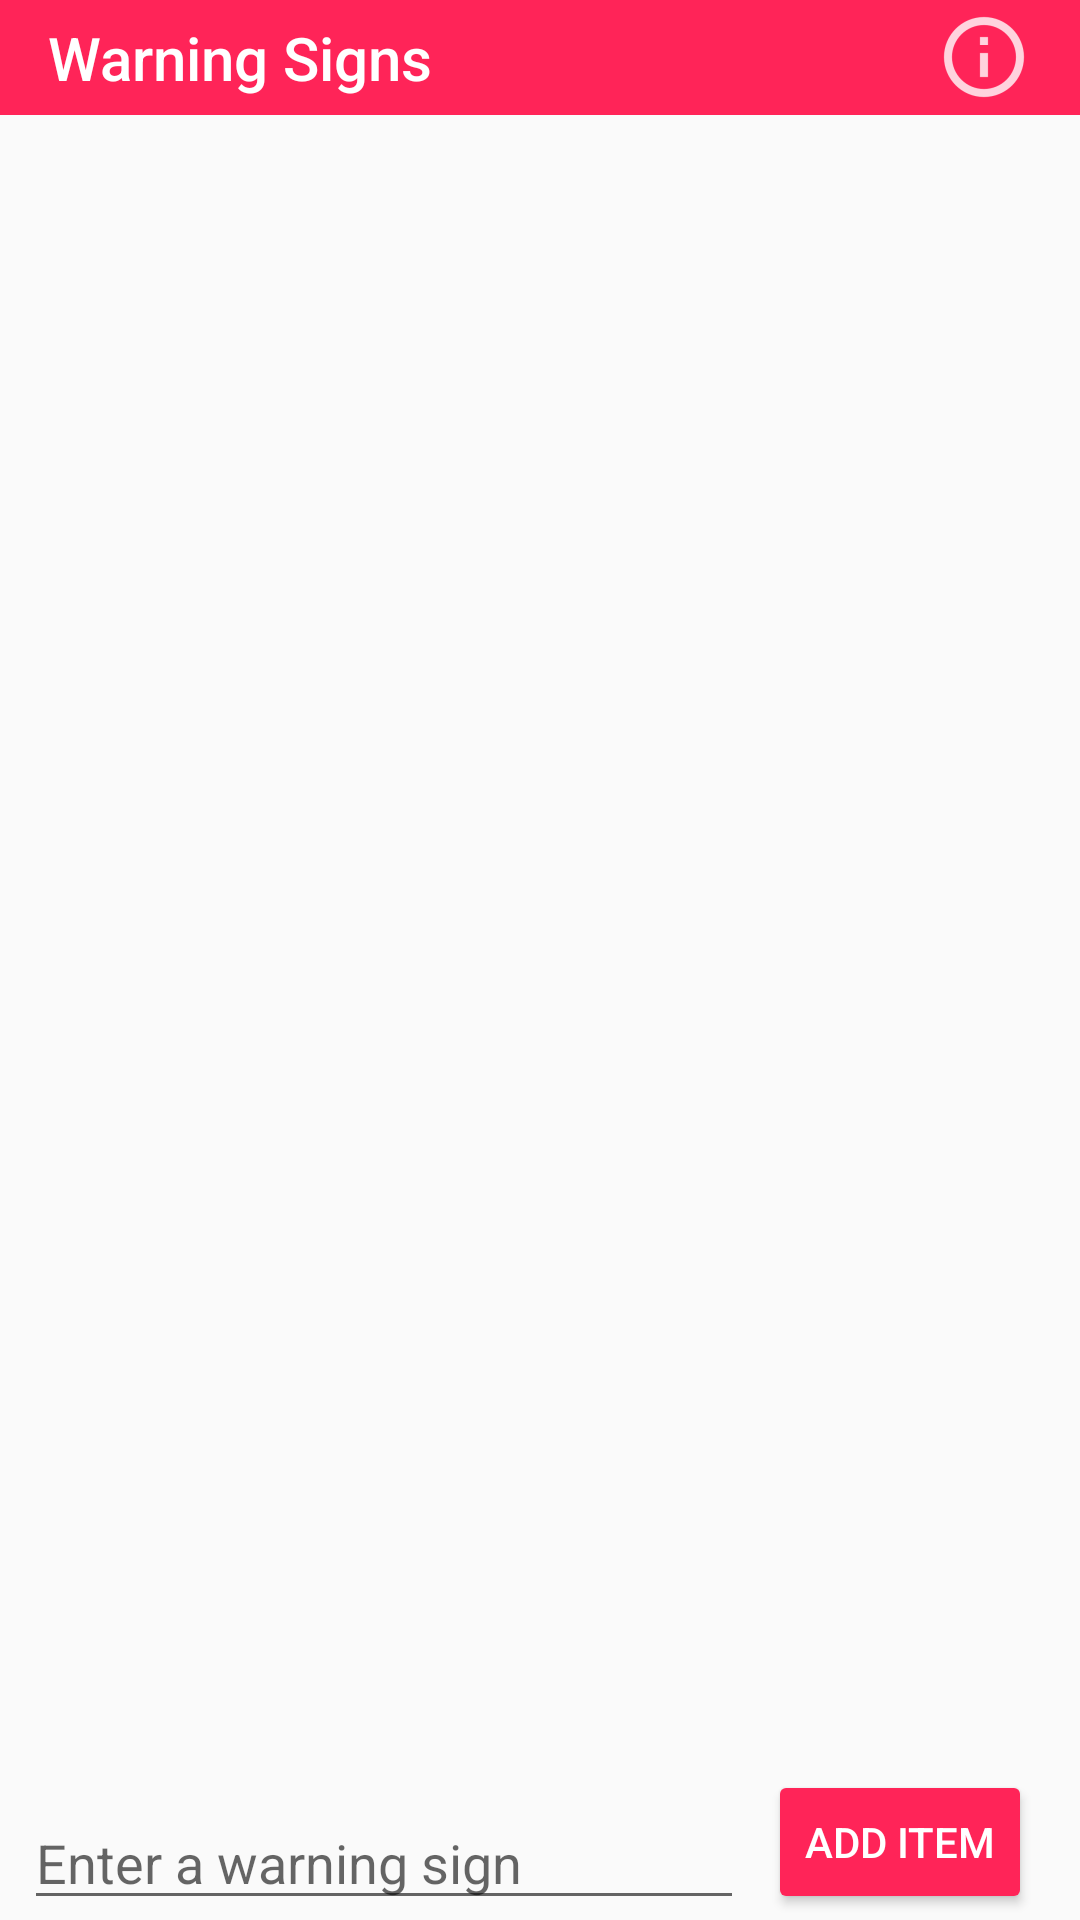

Locate icon controls on the screen. Image size 1080*1920, boxes as (left=x1, top=y1, right=x2, bottom=y2).
information: (left=944, top=17, right=1024, bottom=97)
